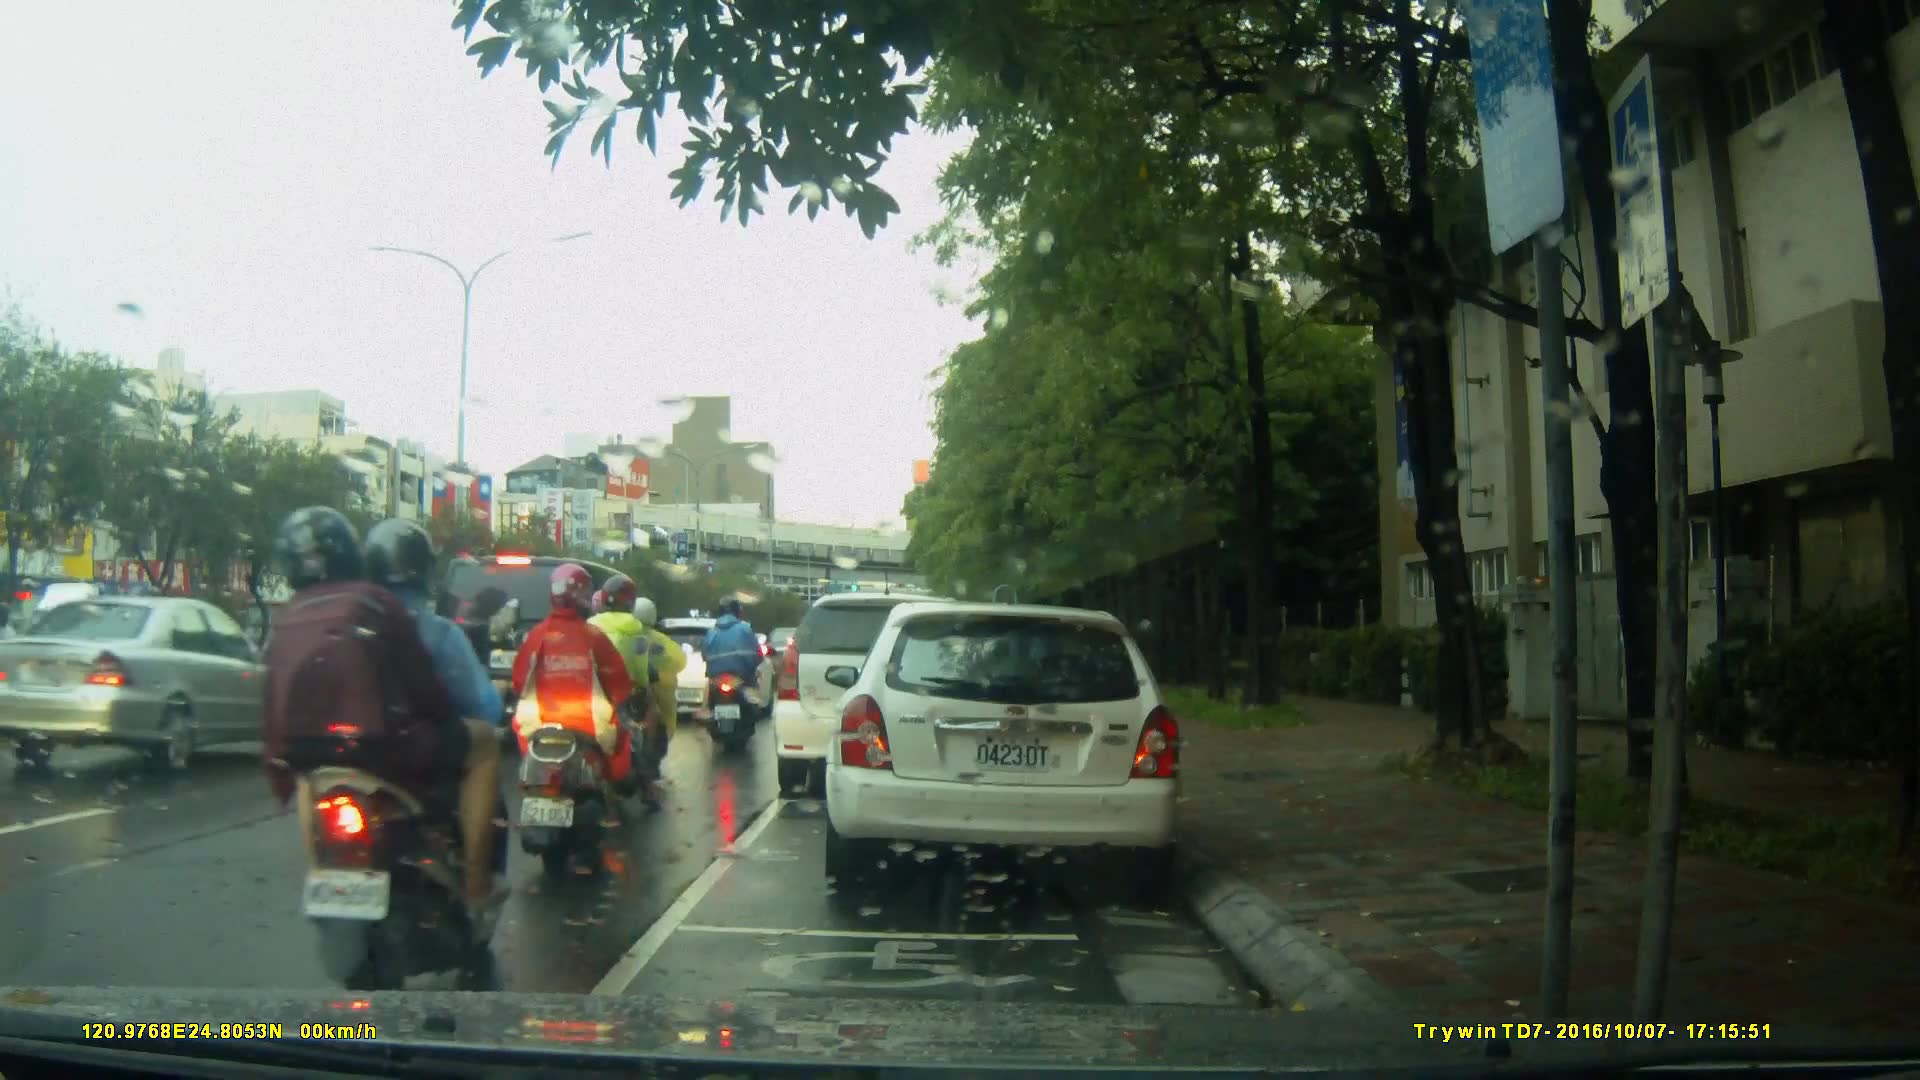rider: (272, 509, 510, 986), (507, 560, 640, 882), (303, 577, 436, 780), (573, 571, 674, 815), (611, 596, 687, 787), (697, 593, 764, 749)
vehicle: (822, 604, 1188, 883), (1, 593, 315, 775), (774, 595, 995, 802), (430, 554, 663, 749)
